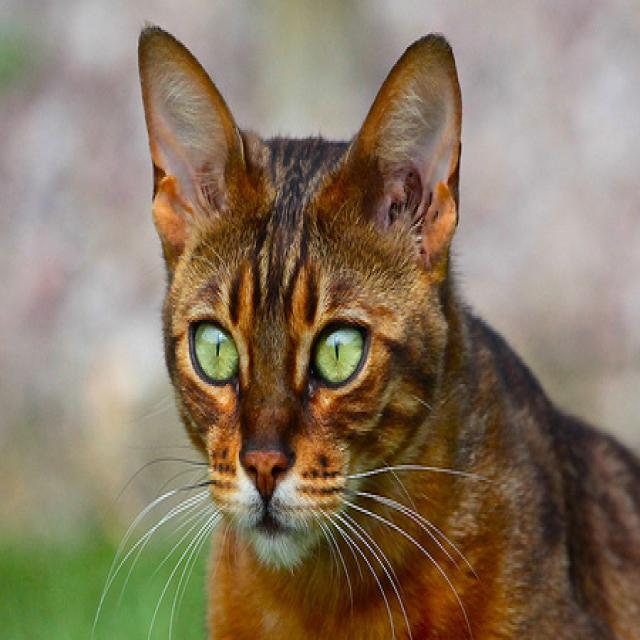Bengal: (131, 15, 640, 640)
